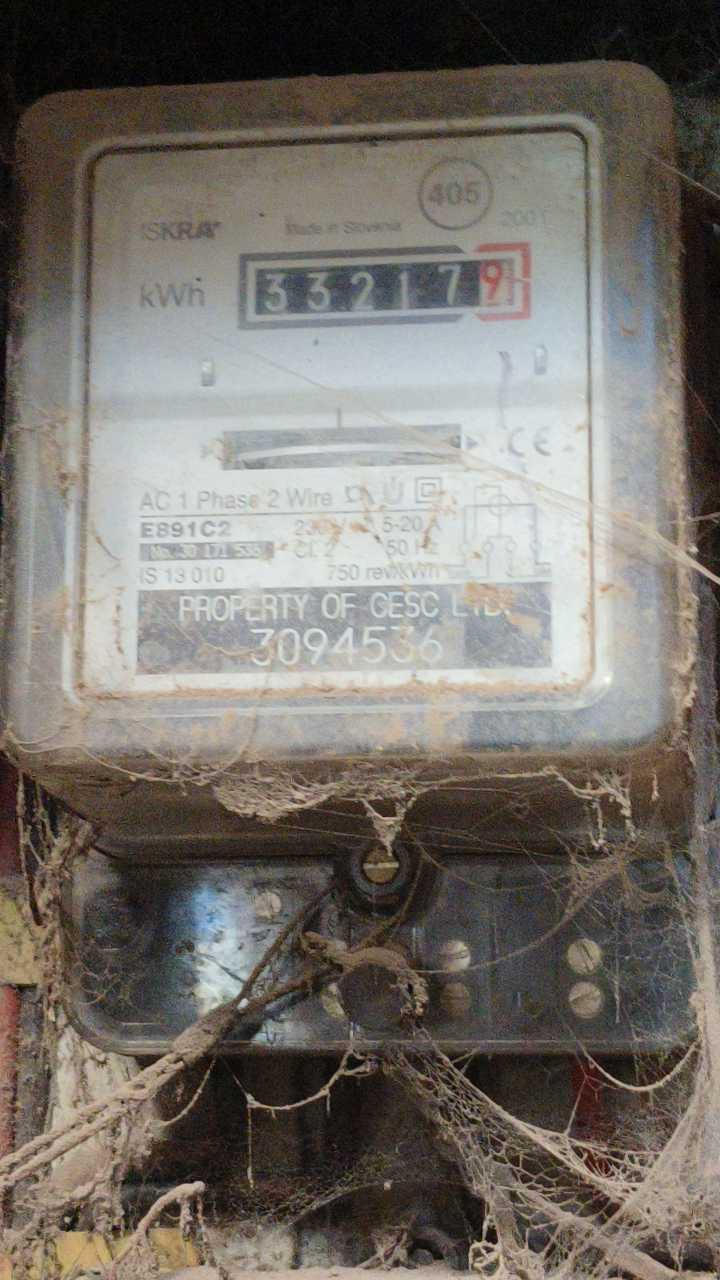meter_readings: (250, 256, 534, 314)
serial_number: (248, 626, 459, 669)
